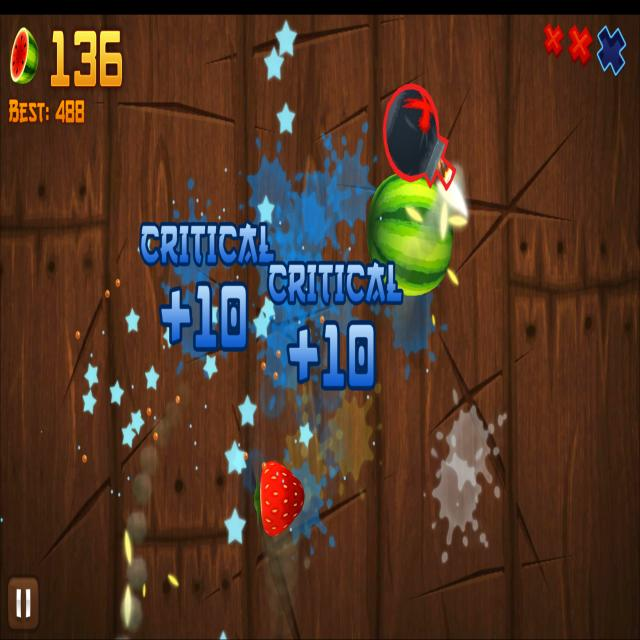bomb: (383, 83, 456, 190)
fruit: (367, 174, 453, 296), (254, 461, 305, 536)
